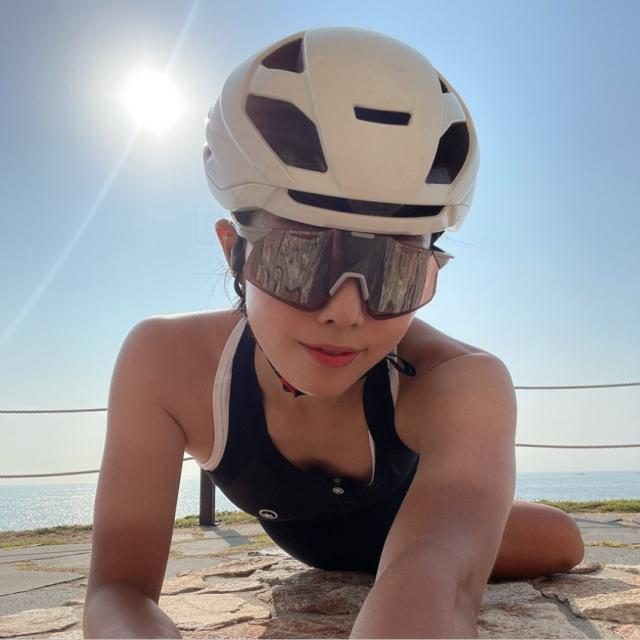with_helmet: (203, 29, 478, 396)
